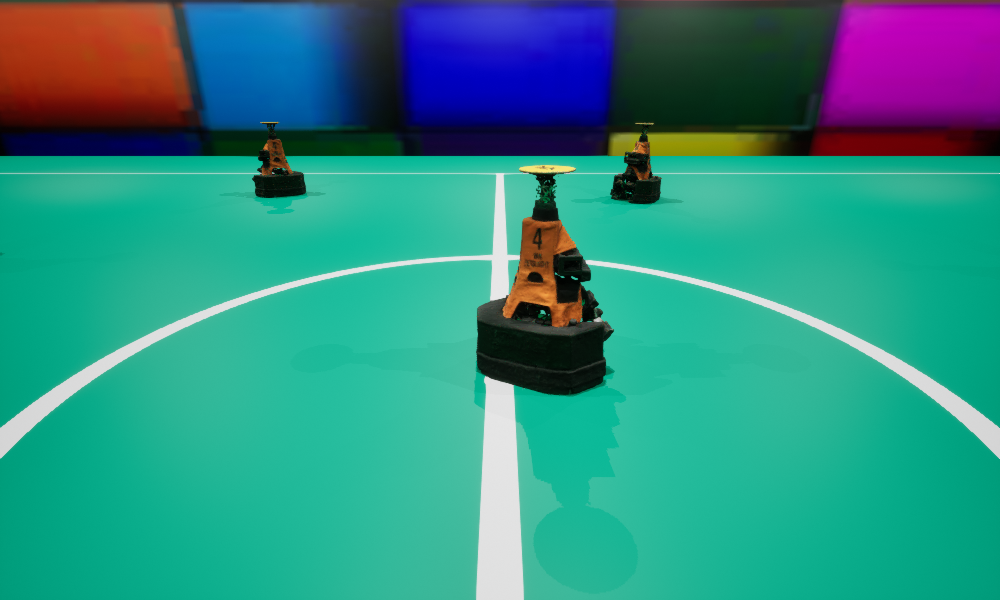o: (476, 165, 613, 394), (610, 123, 661, 202), (252, 122, 305, 197)
